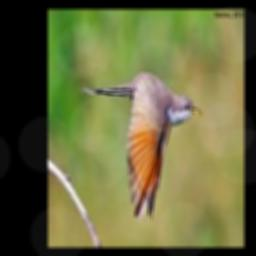Cuckoo: (80, 72, 202, 222)
